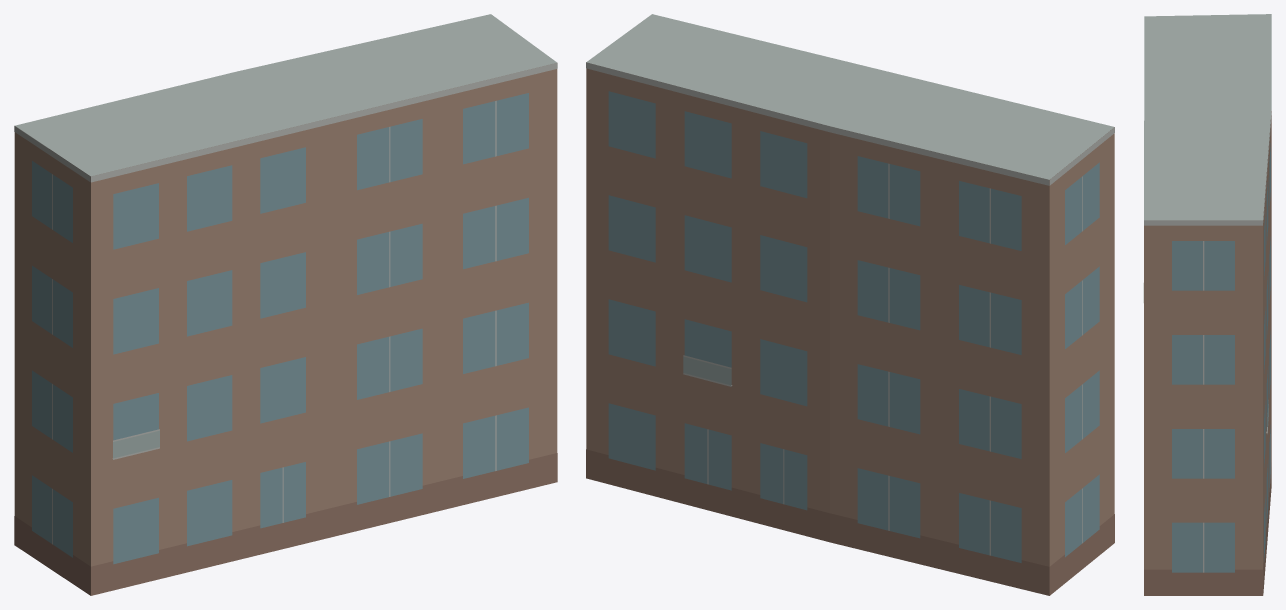
The model's file is survey-upis-33030714.glb.
3 renders of one model, left to right at view 1: azimuth 30°, elevation 25°; view 2: azimuth 150°, elevation 25°; view 3: azimuth 270°, elevation 25°, orthographic. The views are drawn at different scales.
Visible parts, largest first — view 1: survey-upis-33030714.tmp; view 2: survey-upis-33030714.tmp; view 3: survey-upis-33030714.tmp.
Part boxes in pixels (left/top/right/bottom): survey-upis-33030714.tmp: left=14, top=14, right=557, bottom=595; survey-upis-33030714.tmp: left=586, top=14, right=1114, bottom=595; survey-upis-33030714.tmp: left=1143, top=14, right=1271, bottom=595.
Bounding box in the file's own units: 19.67 × 16.7 × 5.18.
